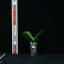leaf: (34, 30, 45, 41), (22, 31, 34, 41), (21, 34, 33, 42), (35, 32, 43, 43), (25, 37, 33, 43)
